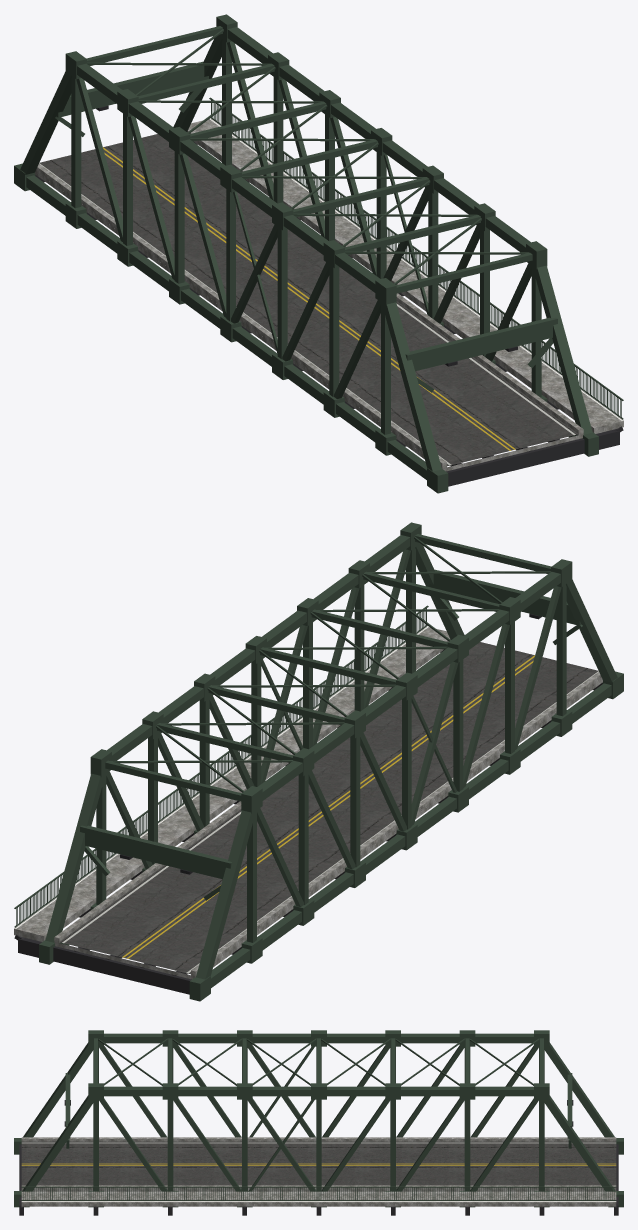
Rendered from town_truss_span 2.gltf.
3 views of the same model, one above another, from view 1: azimuth 30°, elevation 25°; view 2: azimuth 150°, elevation 25°; view 3: azimuth 270°, elevation 25° (orthographic). The views are drawn at different scales.
Parts seen in each view (by area): view 1: TownTrussSpan_Truss, TownTrussSpan_Road, TownTrussSpan_Bracing, TownTrussSpan_Gussets, TownTrussSpan_Walkway, TownTrussSpan_Portal, TownTrussSpan_Curbs, TownTrussSpan_Railing, TownTrussSpan_Floor, TownTrussSpan_Lines, TownTrussSpan_Deck; view 2: TownTrussSpan_Truss, TownTrussSpan_Road, TownTrussSpan_Bracing, TownTrussSpan_Gussets, TownTrussSpan_Walkway, TownTrussSpan_Portal, TownTrussSpan_Curbs, TownTrussSpan_Railing, TownTrussSpan_Floor, TownTrussSpan_Lines, TownTrussSpan_Deck; view 3: TownTrussSpan_Truss, TownTrussSpan_Road, TownTrussSpan_Walkway, TownTrussSpan_Railing, TownTrussSpan_Curbs, TownTrussSpan_Gussets, TownTrussSpan_Bracing, TownTrussSpan_Lines, TownTrussSpan_Deck, TownTrussSpan_Floor, TownTrussSpan_Portal, TownTrussSpan_WalkLights_Glow.
Part boxes in pixels (box(x1,y1,x2,y2)): TownTrussSpan_Truss: box(20, 27, 592, 479); TownTrussSpan_Road: box(39, 134, 578, 466); TownTrussSpan_Bracing: box(86, 26, 532, 293); TownTrussSpan_Gussets: box(14, 14, 598, 493); TownTrussSpan_Walkway: box(187, 119, 623, 433); TownTrussSpan_Portal: box(55, 61, 557, 392); TownTrussSpan_Curbs: box(35, 164, 583, 468); TownTrussSpan_Railing: box(209, 97, 623, 419); TownTrussSpan_Floor: box(35, 141, 619, 486); TownTrussSpan_Lines: box(39, 147, 575, 465); TownTrussSpan_Deck: box(35, 171, 583, 471); TownTrussSpan_Truss: box(45, 535, 617, 987); TownTrussSpan_Road: box(59, 642, 598, 974); TownTrussSpan_Bracing: box(105, 534, 551, 801); TownTrussSpan_Gussets: box(39, 522, 623, 1001); TownTrussSpan_Walkway: box(14, 627, 450, 941); TownTrussSpan_Portal: box(80, 569, 582, 900); TownTrussSpan_Curbs: box(54, 672, 602, 976); TownTrussSpan_Railing: box(14, 605, 428, 927); TownTrussSpan_Floor: box(18, 649, 602, 994); TownTrussSpan_Lines: box(62, 655, 598, 973); TownTrussSpan_Deck: box(54, 679, 602, 979); TownTrussSpan_Truss: box(22, 1033, 615, 1191); TownTrussSpan_Road: box(21, 1141, 616, 1185); TownTrussSpan_Walkway: box(21, 1191, 616, 1206); TownTrussSpan_Railing: box(21, 1186, 616, 1200); TownTrussSpan_Curbs: box(21, 1137, 616, 1190); TownTrussSpan_Gussets: box(14, 1030, 623, 1207); TownTrussSpan_Bracing: box(94, 1038, 543, 1085); TownTrussSpan_Lines: box(21, 1142, 616, 1165); TownTrussSpan_Deck: box(21, 1190, 616, 1191); TownTrussSpan_Floor: box(19, 1144, 618, 1215); TownTrussSpan_Portal: box(65, 1073, 572, 1148); TownTrussSpan_WalkLights_Glow: box(21, 1201, 616, 1201).
Size of what is drawn, in the model's own units: 10.18 by 8.5 by 39.
Materials: 2 (2 with a texture image).
